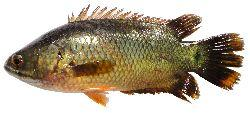Climbing Perch: (4, 4, 246, 108)
